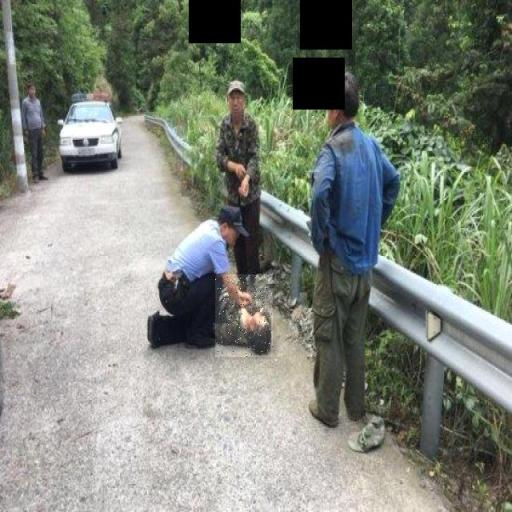Fall: (215, 274, 273, 357)
